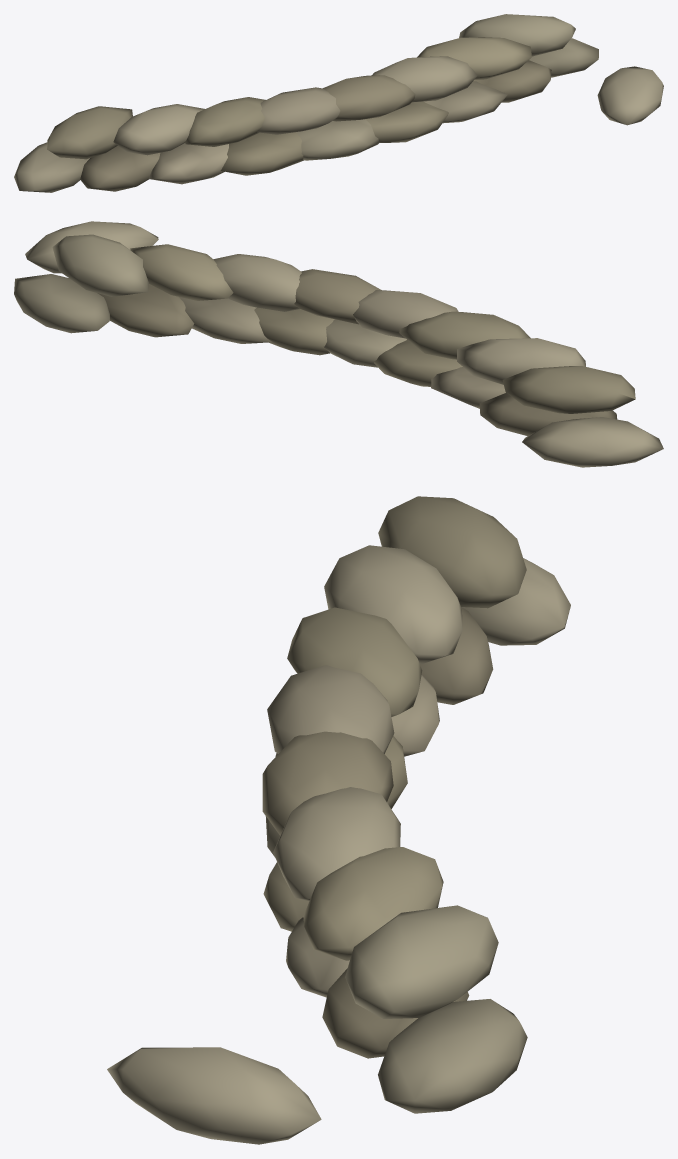
Rendered from sandbag_berm_a_lod1.glb.
The picture shows the model from 3 angles, top to bottom: view 1: azimuth 30°, elevation 25°; view 2: azimuth 150°, elevation 25°; view 3: azimuth 270°, elevation 25°; orthographic projection. The views are drawn at different scales.
Parts seen in each view (by area): view 1: Surface.001; view 2: Surface.001; view 3: Surface.001.
Part boxes in pixels (x1=…): Surface.001: x1=14, y1=14, x2=663, y2=192; Surface.001: x1=14, y1=221, x2=663, y2=467; Surface.001: x1=107, y1=496, x2=570, y2=1144.
Bounding box in the file's own units: 3.72 × 0.4253 × 1.25.
